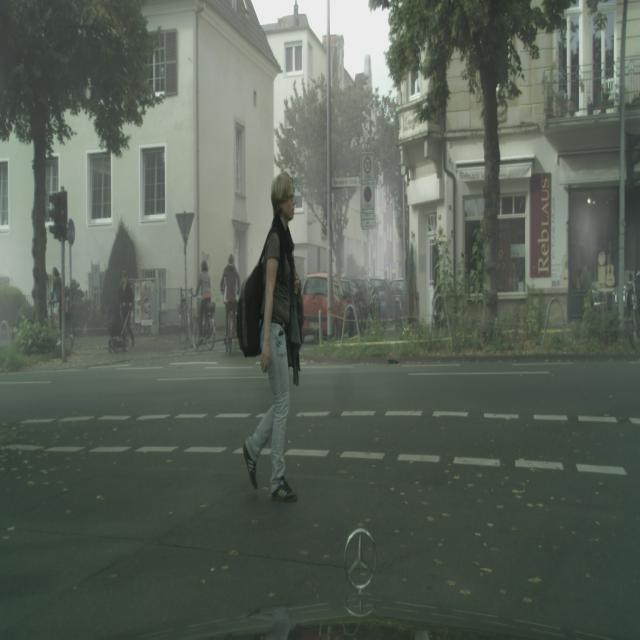car: (192, 294, 216, 351), (624, 269, 640, 351), (178, 290, 192, 345), (225, 302, 235, 354)
person: (242, 173, 303, 503), (220, 253, 241, 349), (194, 258, 212, 346), (119, 269, 135, 349)
truck: (300, 271, 360, 341), (370, 278, 400, 319)
